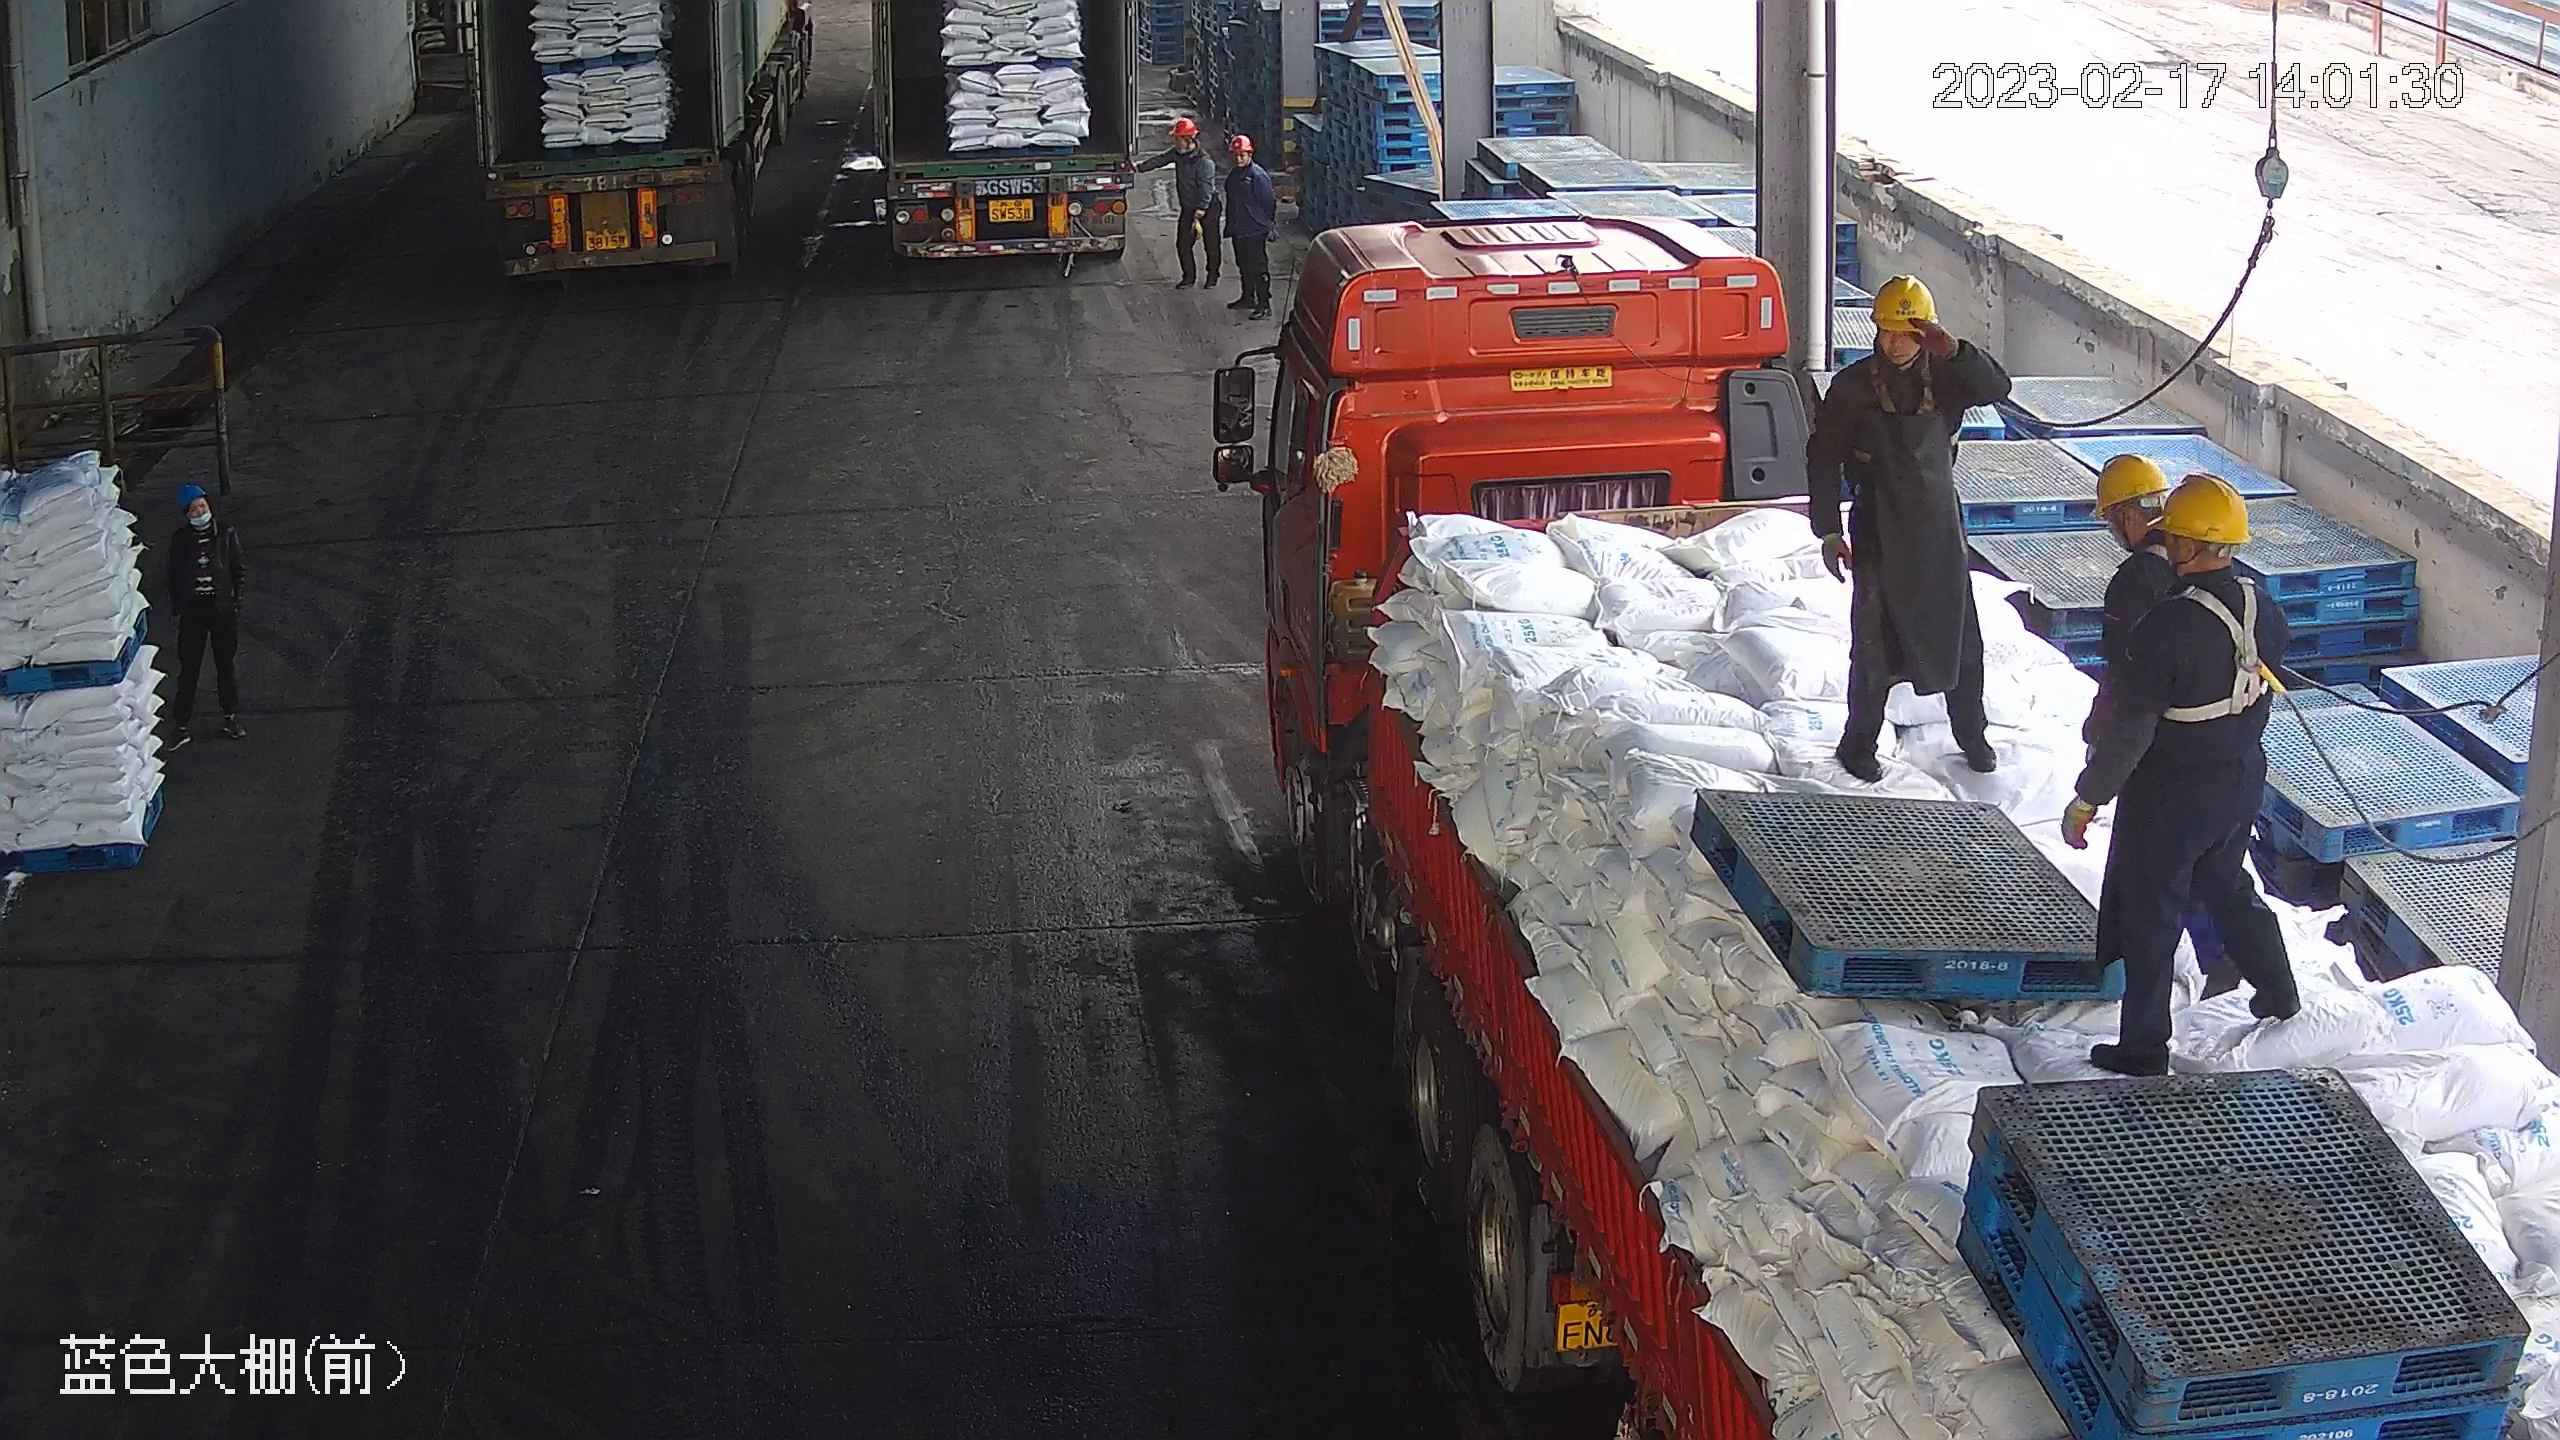belt: (2159, 570, 2295, 725), (1865, 346, 1944, 420)
head: (2115, 465, 2289, 646), (1822, 268, 1985, 429), (2077, 460, 2221, 606), (175, 487, 238, 567), (1220, 133, 1271, 196), (1167, 116, 1210, 179)
helmet: (2156, 472, 2252, 546), (2088, 452, 2171, 517), (1870, 269, 1936, 336), (182, 486, 211, 514), (1169, 115, 1201, 137), (1224, 133, 1253, 155)
people: (2061, 467, 2303, 1080), (1802, 265, 2011, 781), (175, 485, 248, 743), (1160, 116, 1218, 291), (1220, 135, 1275, 319)
truck: (1208, 208, 2556, 1440), (472, 1, 820, 282), (869, 2, 1142, 269)
